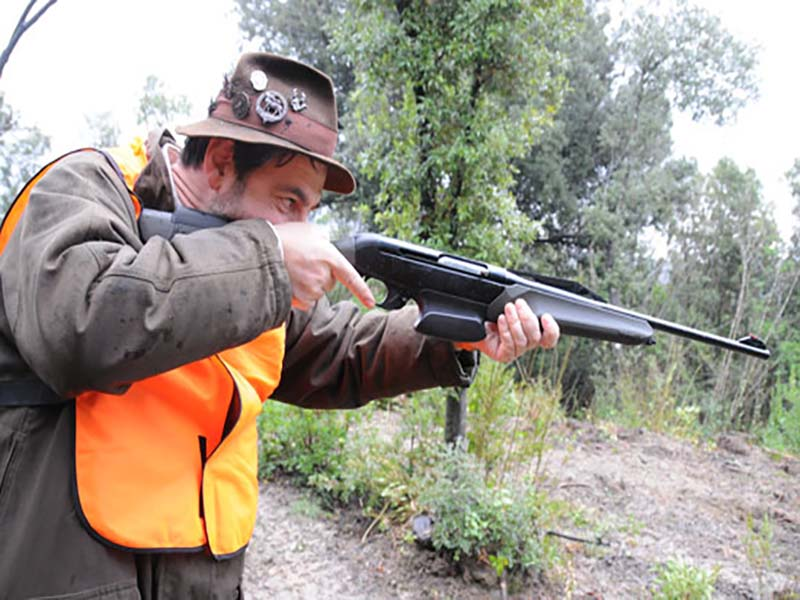cacciatore: (1, 81, 748, 598)
fucile: (133, 194, 773, 379)
